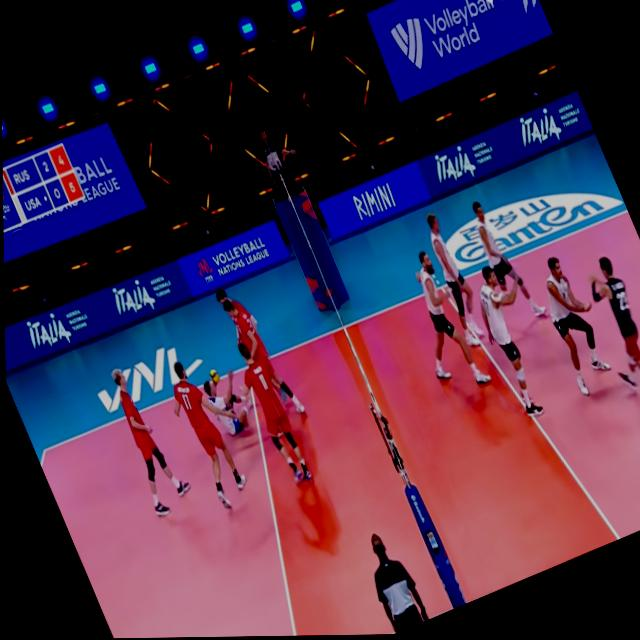player: (464, 250, 572, 426), (389, 235, 489, 397), (523, 243, 623, 403), (157, 349, 258, 507), (225, 335, 319, 495), (100, 356, 191, 513), (216, 287, 309, 433), (458, 187, 549, 335), (574, 239, 640, 422), (413, 203, 493, 352), (195, 361, 265, 444)
